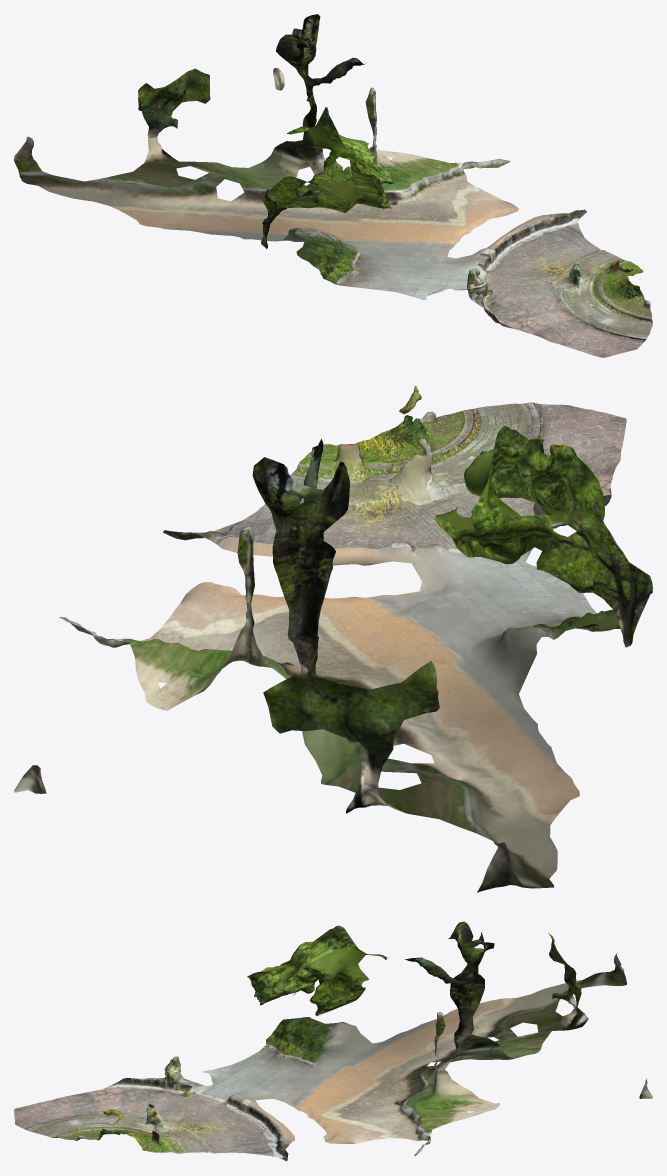
3 renders of one model, top to bottom at view 1: azimuth 30°, elevation 25°; view 2: azimuth 150°, elevation 25°; view 3: azimuth 270°, elevation 25°, orthographic. The views are drawn at different scales.
Parts seen in each view (by area): view 1: baked_mesh_332faec3; view 2: baked_mesh_332faec3; view 3: baked_mesh_332faec3.
Boxes of the visible parts, x1,y1,x2,y2 form: baked_mesh_332faec3: (14, 14, 652, 357); baked_mesh_332faec3: (14, 386, 652, 892); baked_mesh_332faec3: (14, 921, 652, 1161).
Size of the model in its own units: 7 by 2.83 by 10.43.
Materials: 1 (1 with a texture image).
